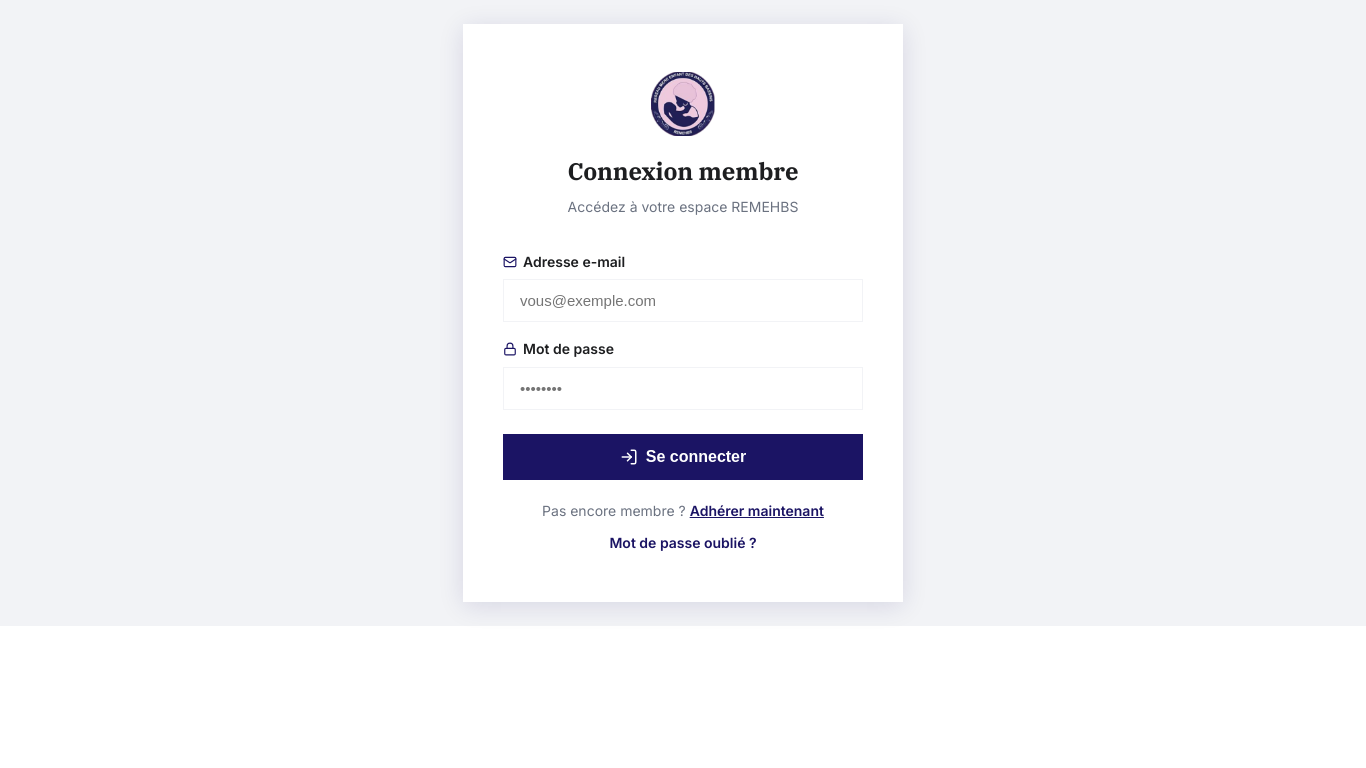
Test case: LoginPage › shows error on login failure
Step 1. Type "bad@mail.com" into the field with placeholder "vous@exemple.com" → (683, 301), box 503,279 -> 863,322
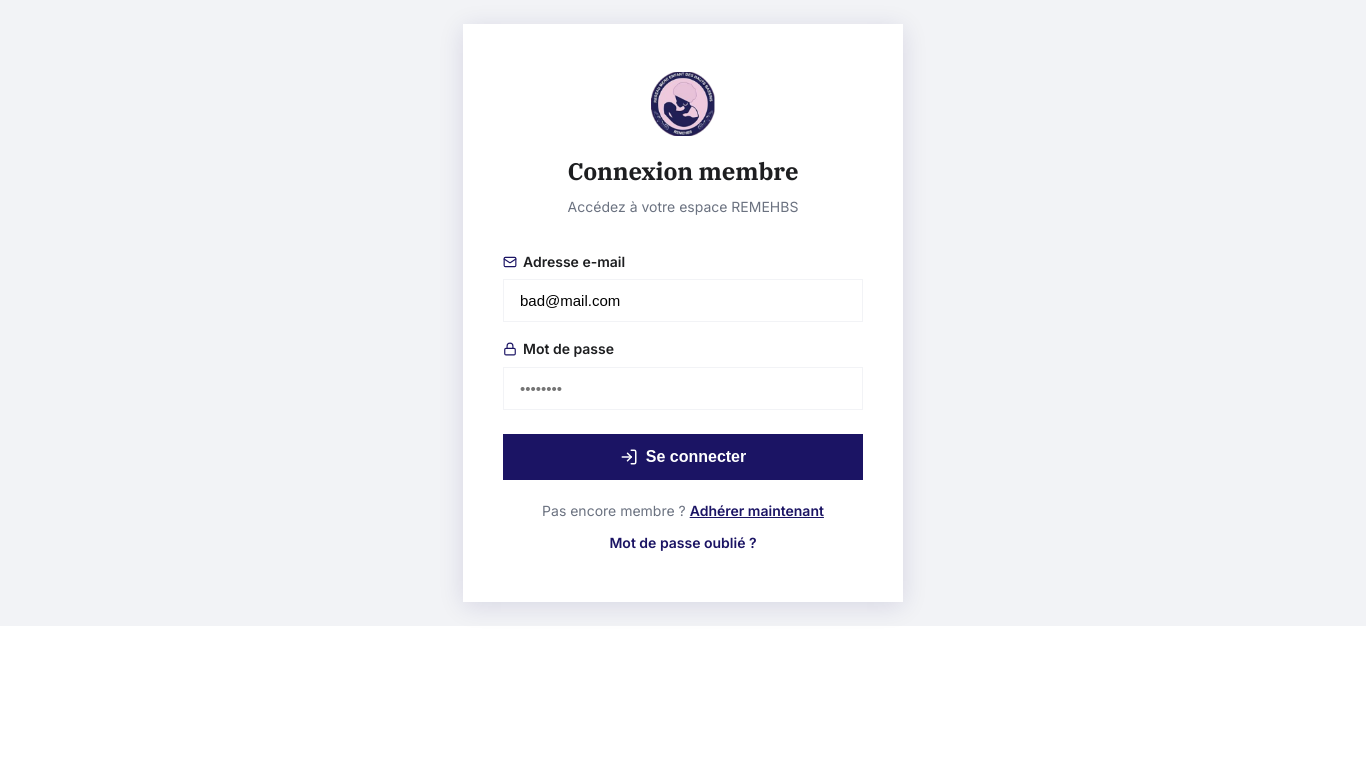
Step 2. Type "wrong" into the password field with placeholder "••••••••" → (683, 388), box 503,367 -> 863,410
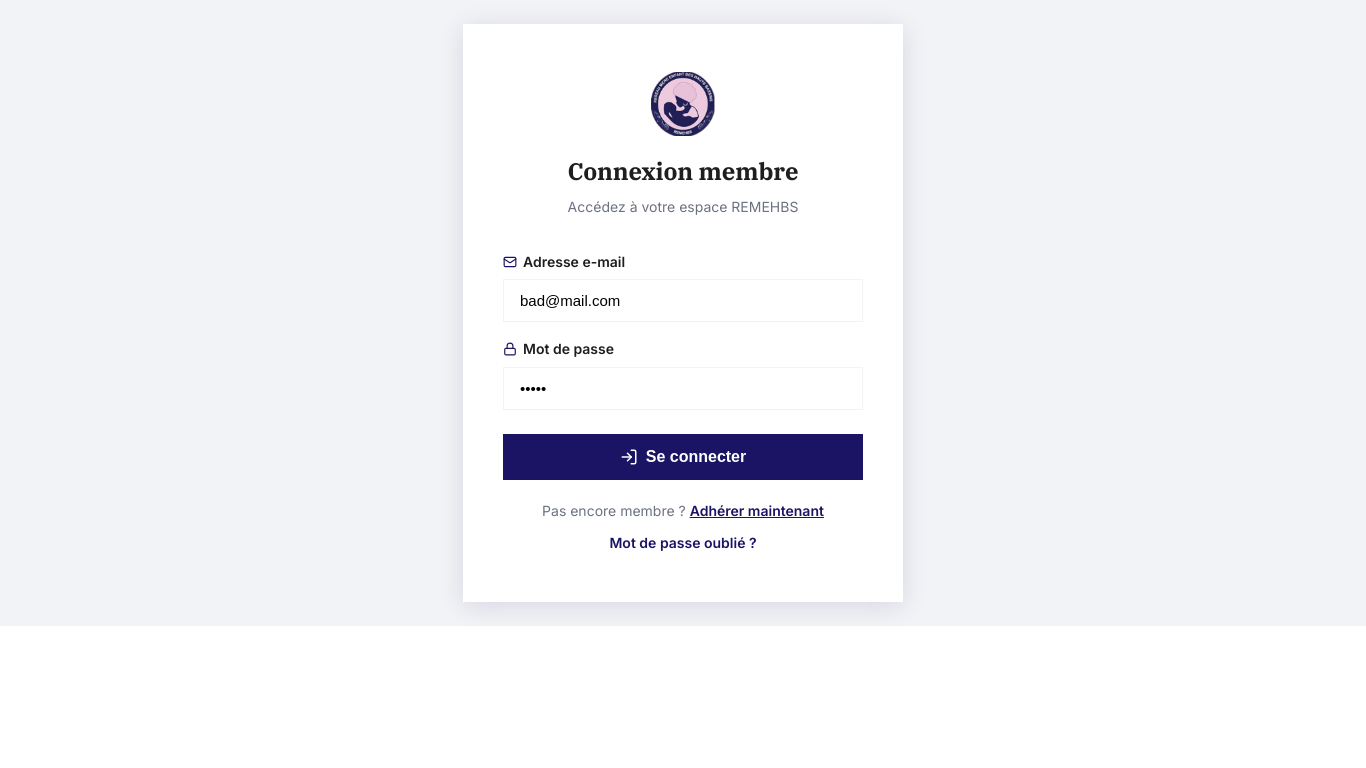
Step 3. Click the button "Se connecter" → (683, 457), box 503,434 -> 863,480
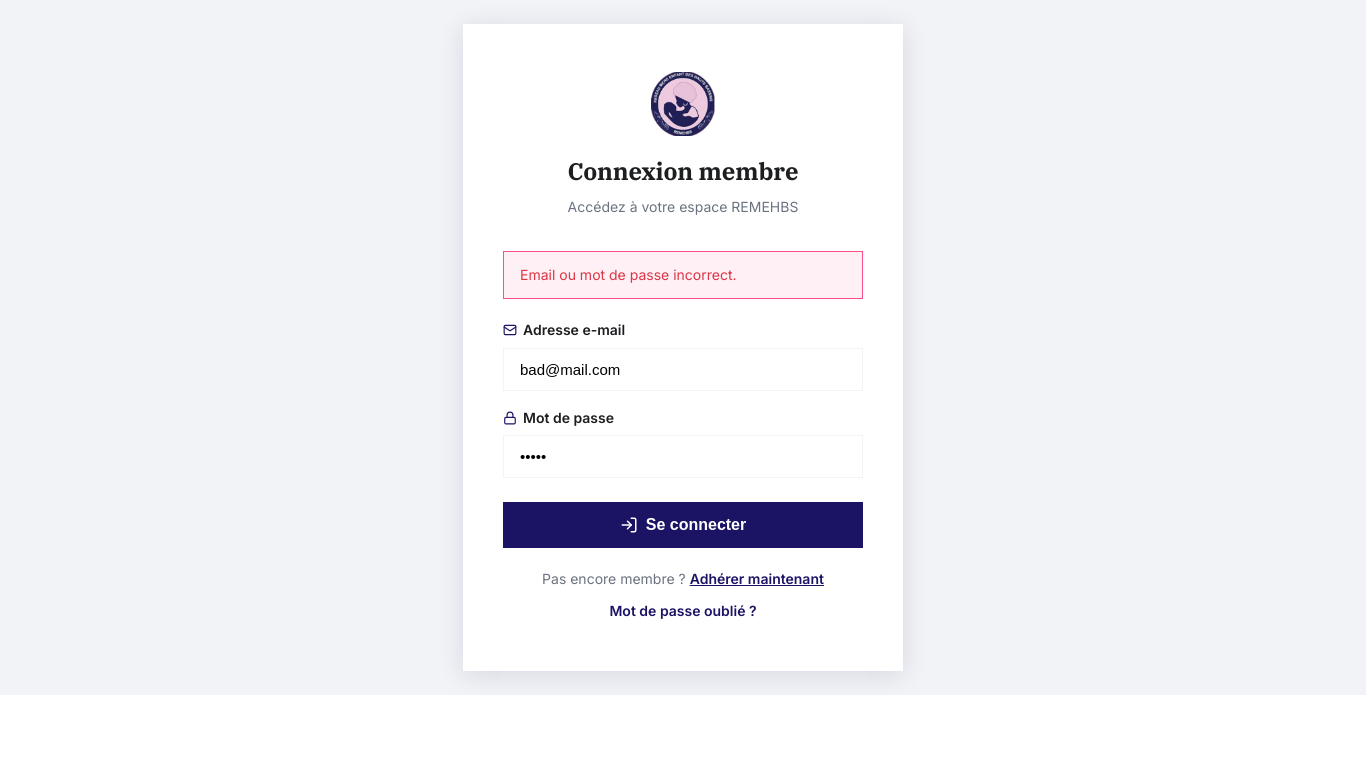
Check: the text "Email ou mot de passe incorrect." is shown, box 503,251 -> 863,299
